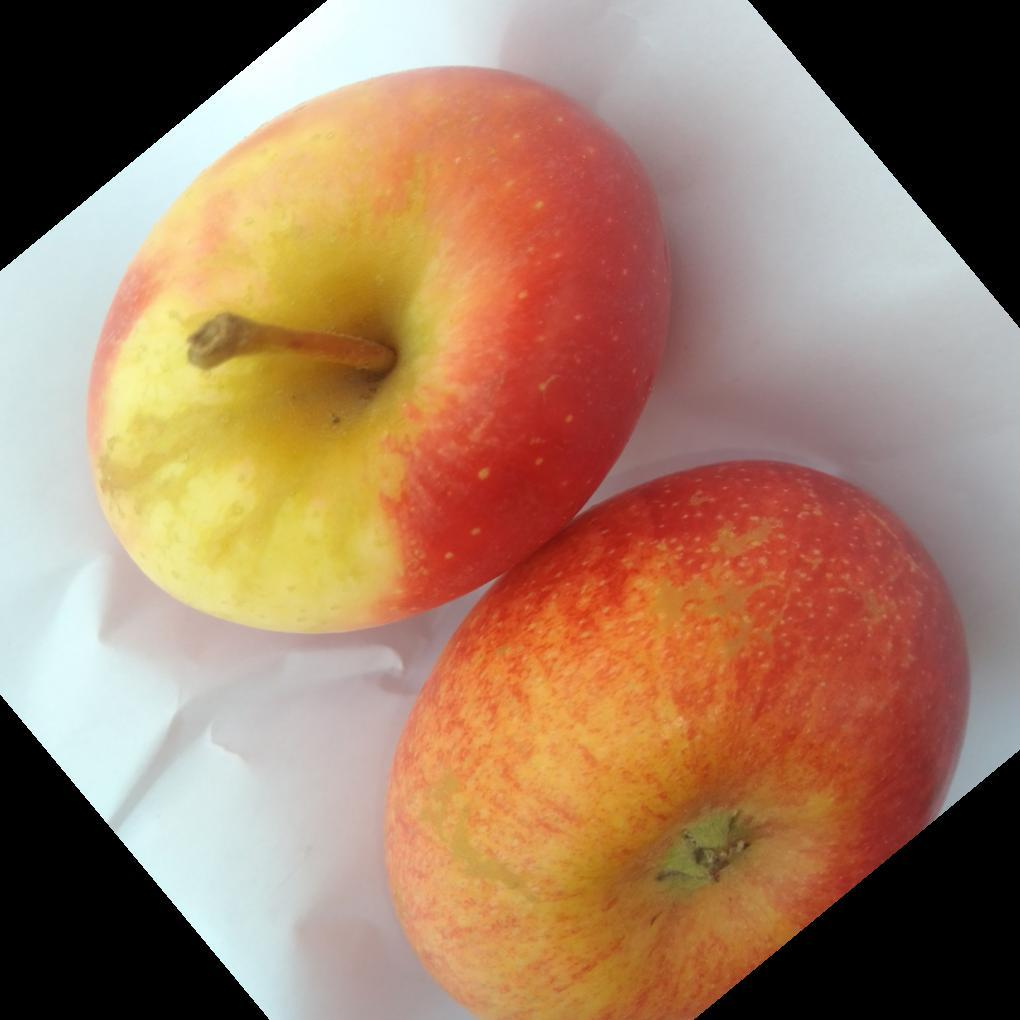FreshGuava: (83, 67, 970, 1020)
